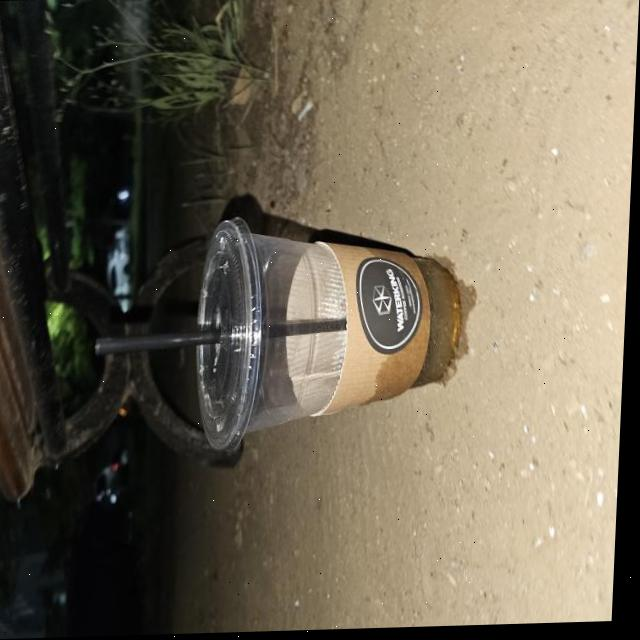cup: (189, 205, 479, 455)
